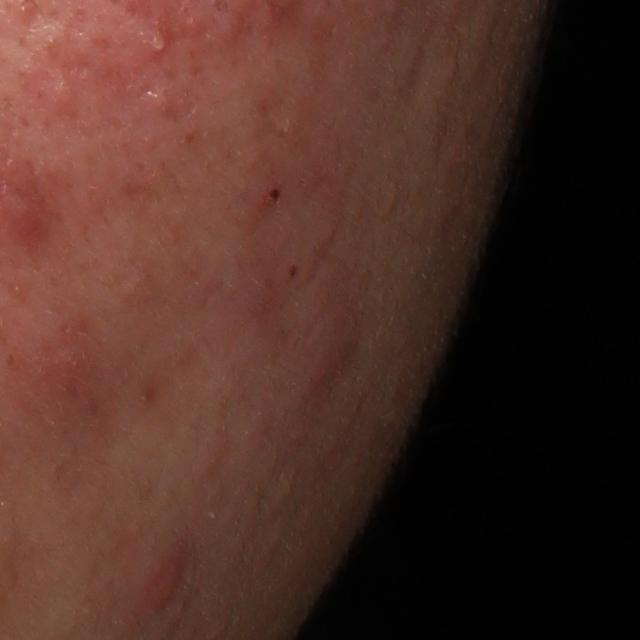nevus: (287, 262, 301, 280)
papule: (306, 304, 364, 392), (127, 549, 184, 622)
pustule: (141, 26, 170, 58)
